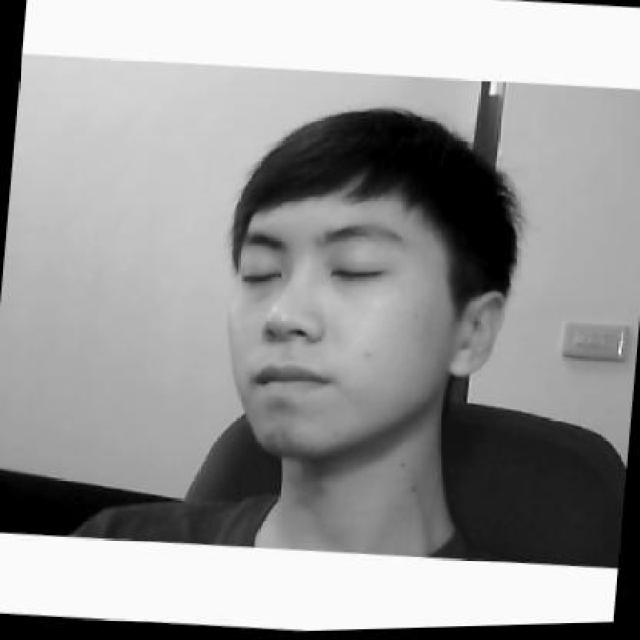inattentif: (215, 92, 519, 474)
